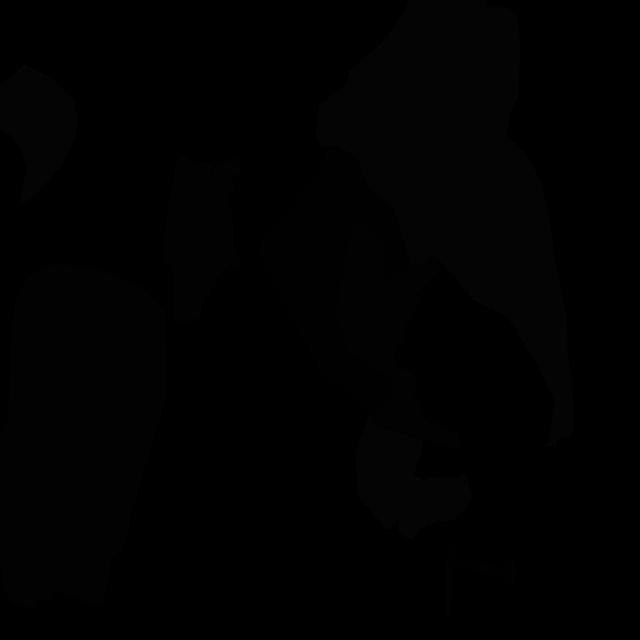cardboard: (0, 264, 166, 608), (336, 217, 460, 450), (162, 154, 243, 323), (37, 559, 111, 606)
rigid_plastic: (259, 146, 410, 417), (444, 539, 518, 623)
soft_plastic: (316, 0, 574, 447), (356, 413, 474, 540), (0, 64, 78, 205)
